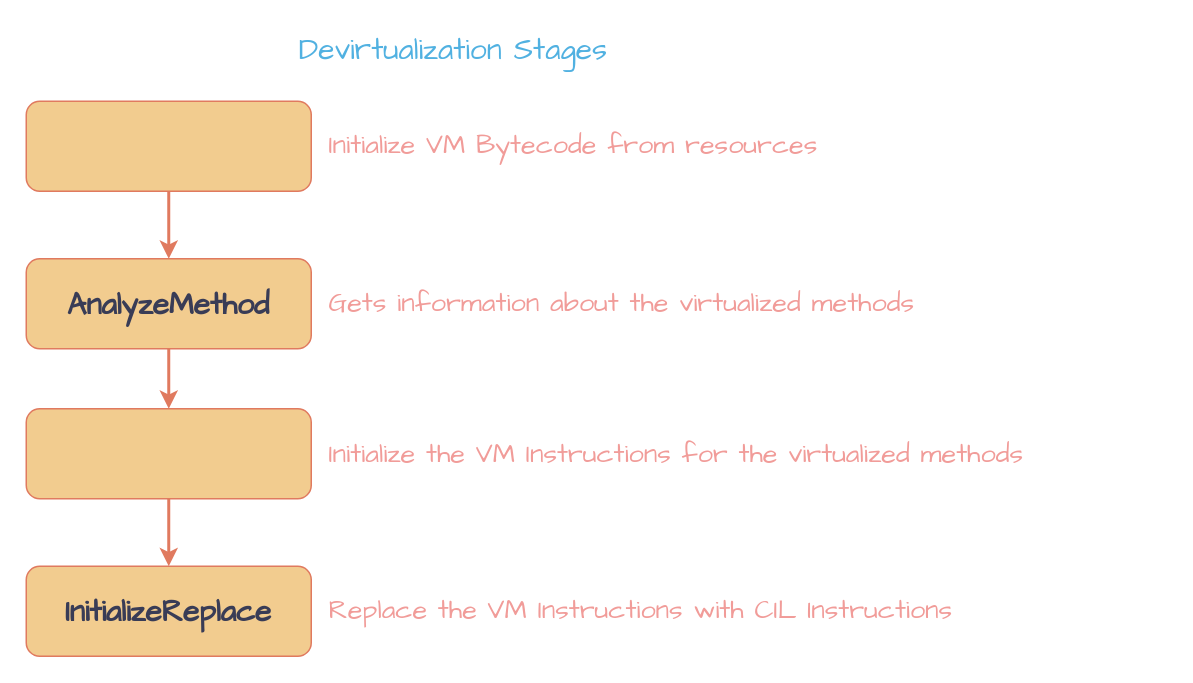
This 1193x683 diagram has some shape labels left out. Each missing label, with the centre of its shape:
AnalyzeResources: (x=168, y=145)
InitializeMethod: (x=168, y=453)
